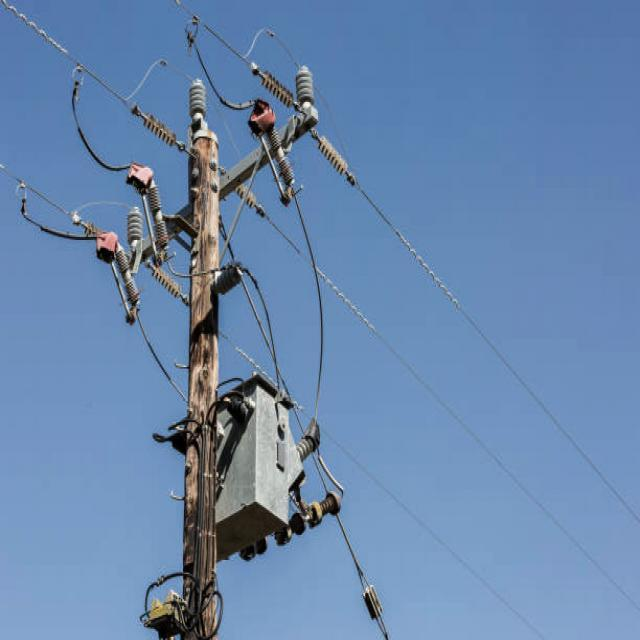crossarm: (117, 62, 318, 276)
pole: (145, 83, 226, 640)
transformer: (214, 376, 315, 560)
wire: (232, 179, 640, 615), (306, 126, 640, 524), (220, 326, 550, 640), (0, 0, 135, 119), (0, 161, 101, 242)
